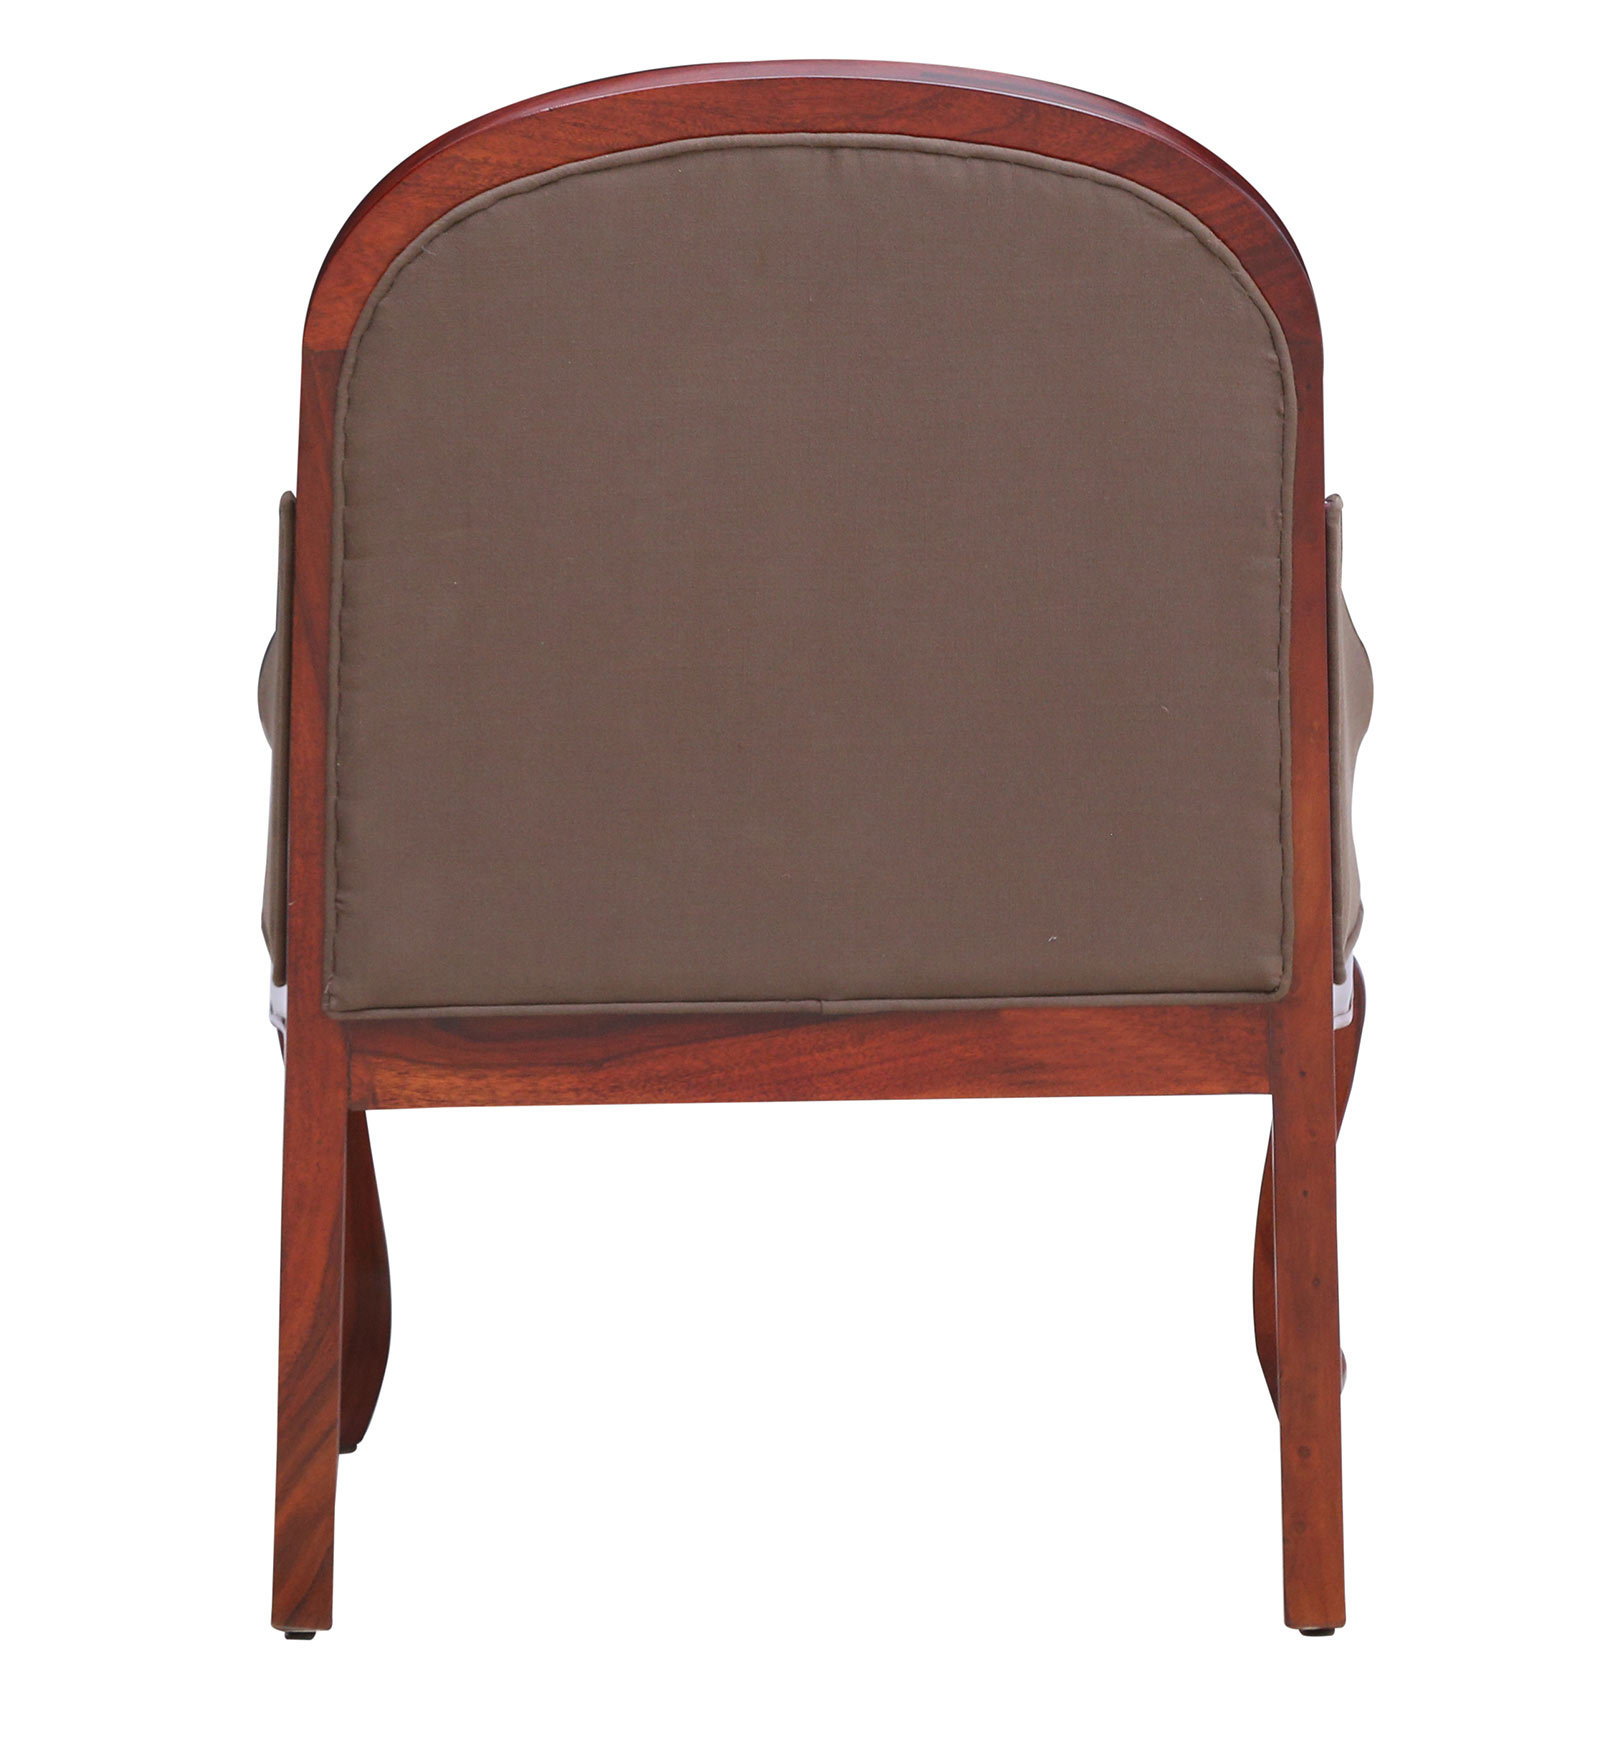Clifford Arm Chair in Honey Oak Finish by Amberville: (159, 54, 1398, 1680)
